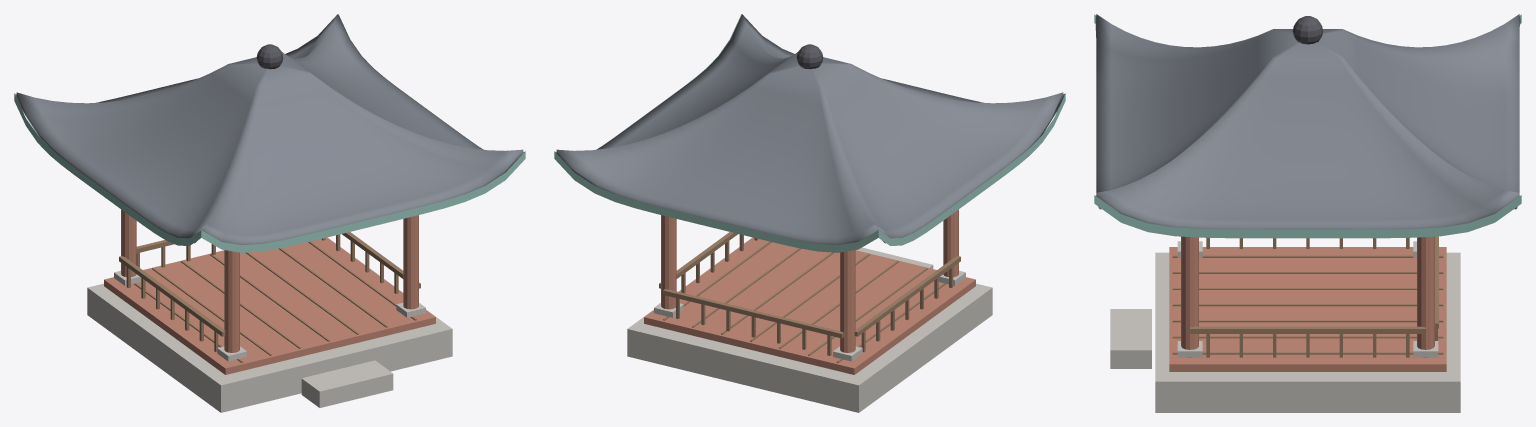
The model's file is Prop_Jeongja.fbx.
The picture shows the model from 3 angles, left to right: view 1: azimuth 30°, elevation 25°; view 2: azimuth 150°, elevation 25°; view 3: azimuth 270°, elevation 25°; orthographic projection. The views are drawn at different scales.
Parts seen in each view (by area): view 1: Roof, Floor, Plinth, Eave, Step, Col, Col.002, Rail, Col.001, Rail.001, Finial; view 2: Roof, Floor, Plinth, Eave, Col.001, Col.003, Rail.002, Rail, Col, Rail.001, Finial; view 3: Roof, Floor, Plinth, Eave, Step, Col.002, Col.003, Rail.001, Finial, Plank.003, Plank.004, Plank (+4 smaller).
Boxes of the visible parts, x1,y1,x2,y2 form: Roof: (16,14,523,244); Floor: (104,237,435,374); Plinth: (87,237,452,412); Eave: (14,14,525,252); Step: (301,360,393,407); Col: (224,250,239,352); Col.002: (403,215,418,309); Rail: (119,256,225,336); Col.001: (121,209,136,284); Rail.001: (342,232,420,288); Finial: (256,44,283,69); Roof: (556,14,1063,244); Floor: (644,237,975,374); Plinth: (627,237,992,412); Eave: (554,14,1065,252); Col.001: (840,250,855,352); Col.003: (661,215,676,309); Rail.002: (663,289,843,338); Rail: (854,256,960,336); Col: (943,209,958,284); Rail.001: (659,232,737,288); Finial: (796,44,823,69); Roof: (1095,14,1520,229); Floor: (1169,247,1446,371); Plinth: (1155,252,1460,412); Eave: (1094,14,1521,238); Step: (1110,309,1151,368); Col.002: (1181,236,1198,357); Col.003: (1417,236,1434,357); Rail.001: (1190,326,1425,333); Finial: (1292,16,1323,44); Plank.003: (1172,304,1443,306); Plank.004: (1172,320,1443,322); Plank: (1172,255,1443,257).
Size of the model in its own units: 6.16 by 5.27 by 6.16.
